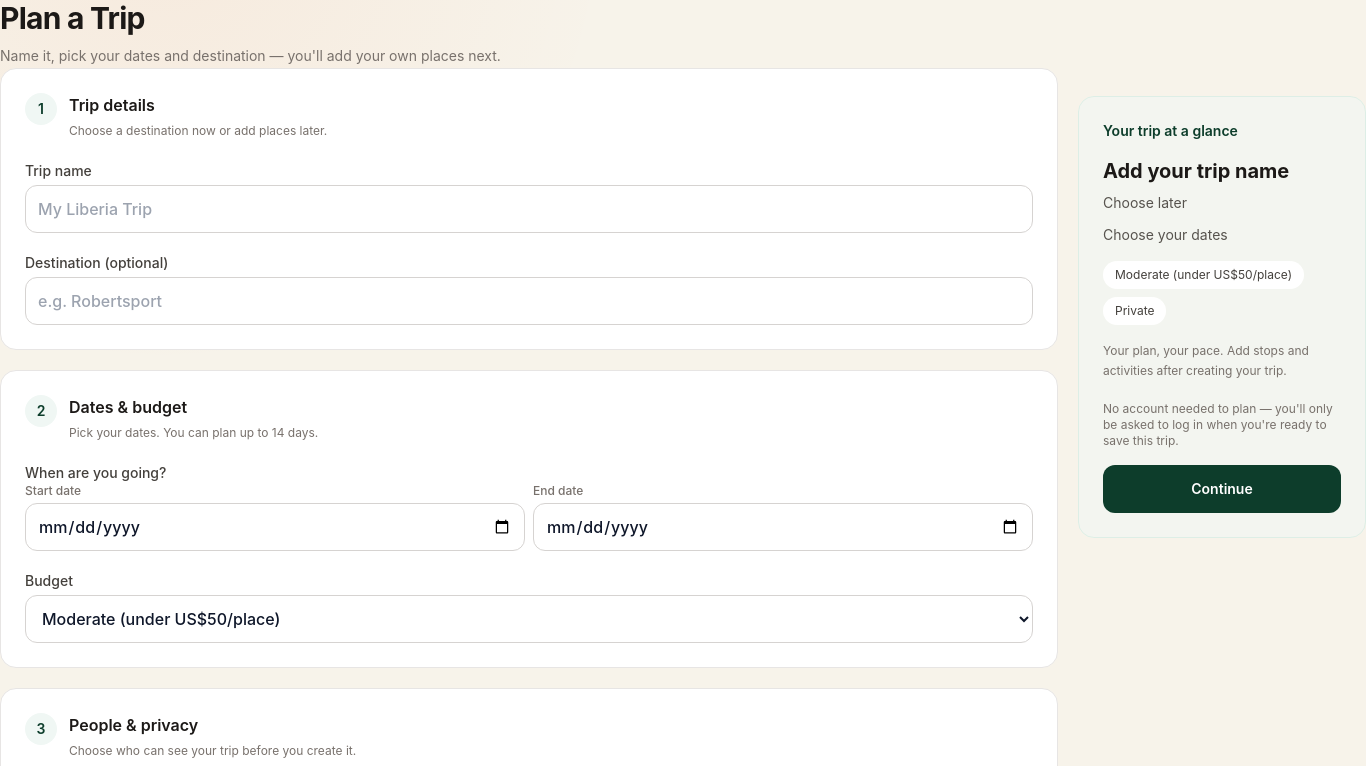
Test: TripPlannerForm › lets a signed-out visitor preview a trip with no login prompt, and no auto-generated stops
This screenshot has width=1366, height=766.
Step 1. Type "3-Day Liberia Trip" into the field labelled "Trip name" → (529, 209), box [25, 185, 1033, 233]
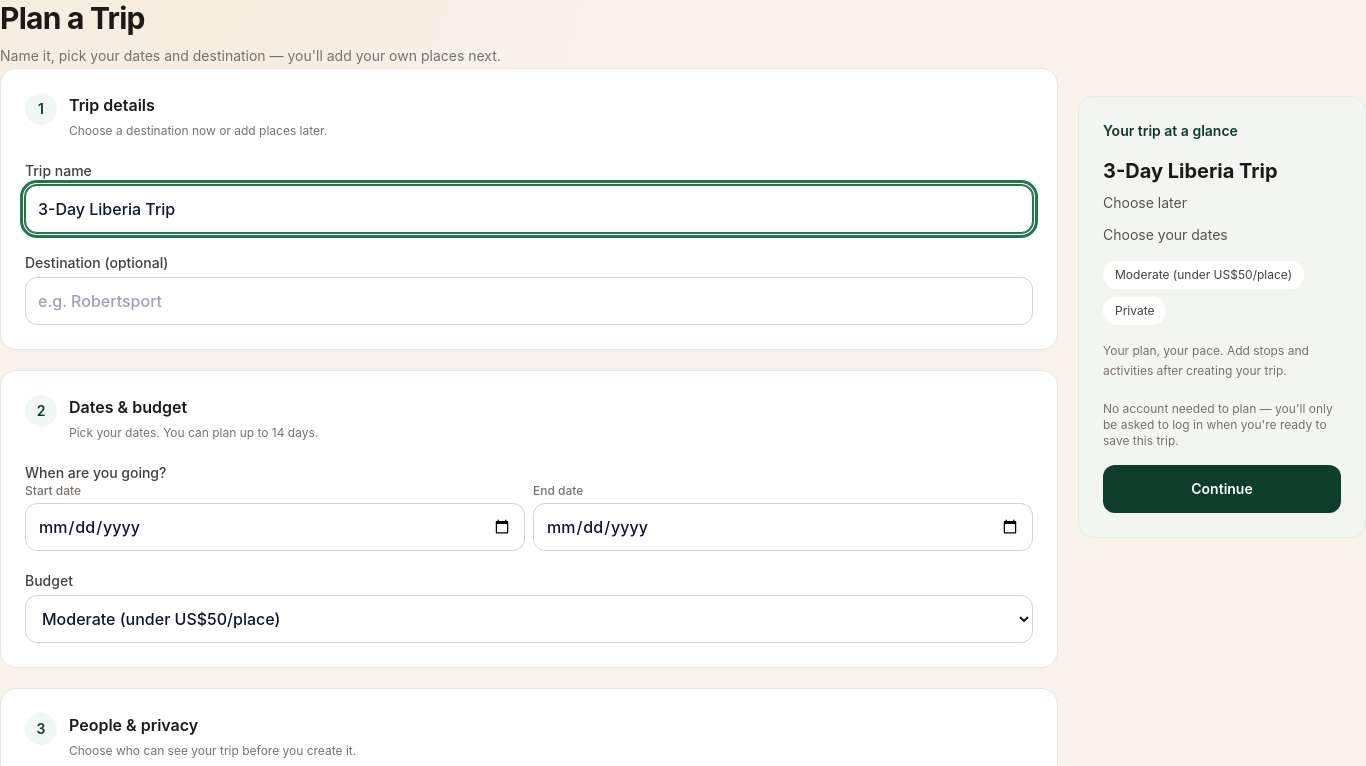
Step 2. Type "Robert" into the field with placeholder "e.g. Robertsport" → (529, 301), box [25, 277, 1033, 325]
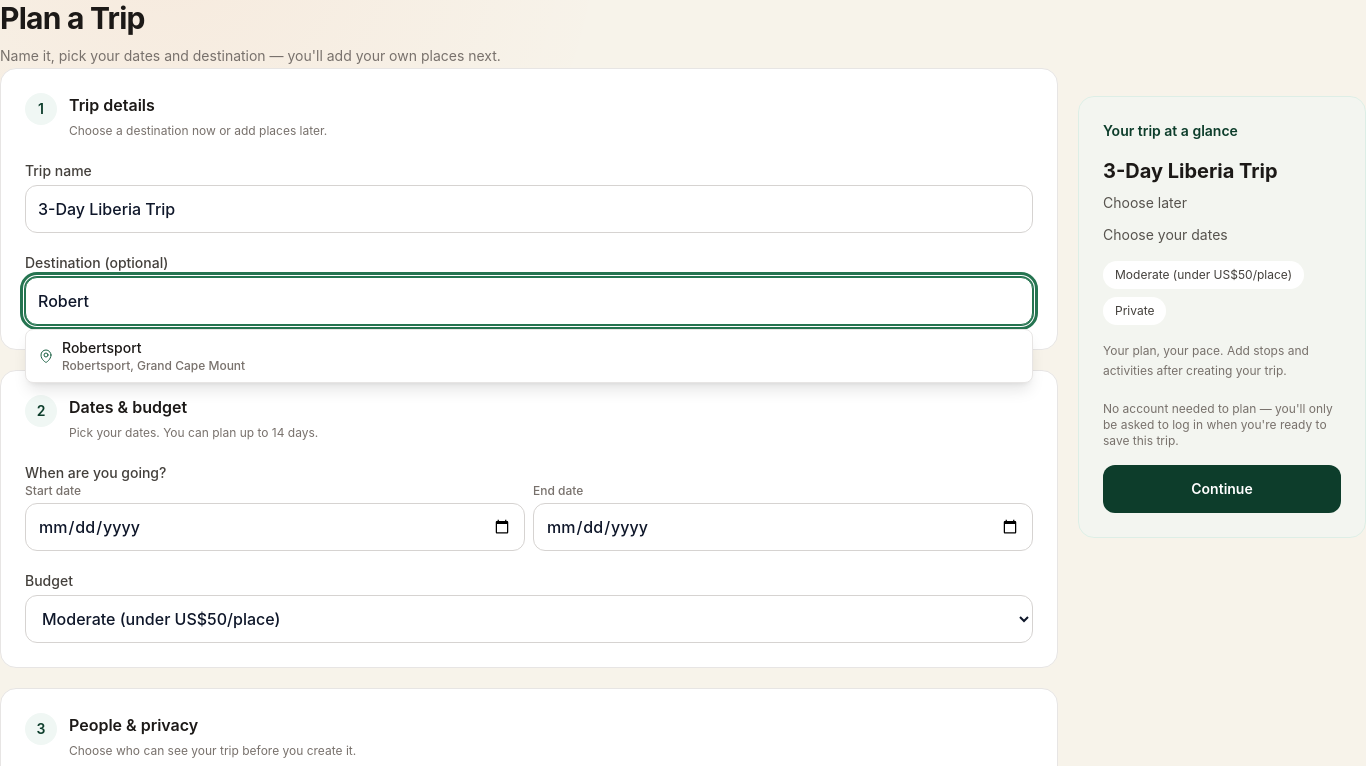
Check: the text "Robertsport" is shown
Step 3. Click the text "Robertsport" → (102, 348), box [62, 339, 142, 356]
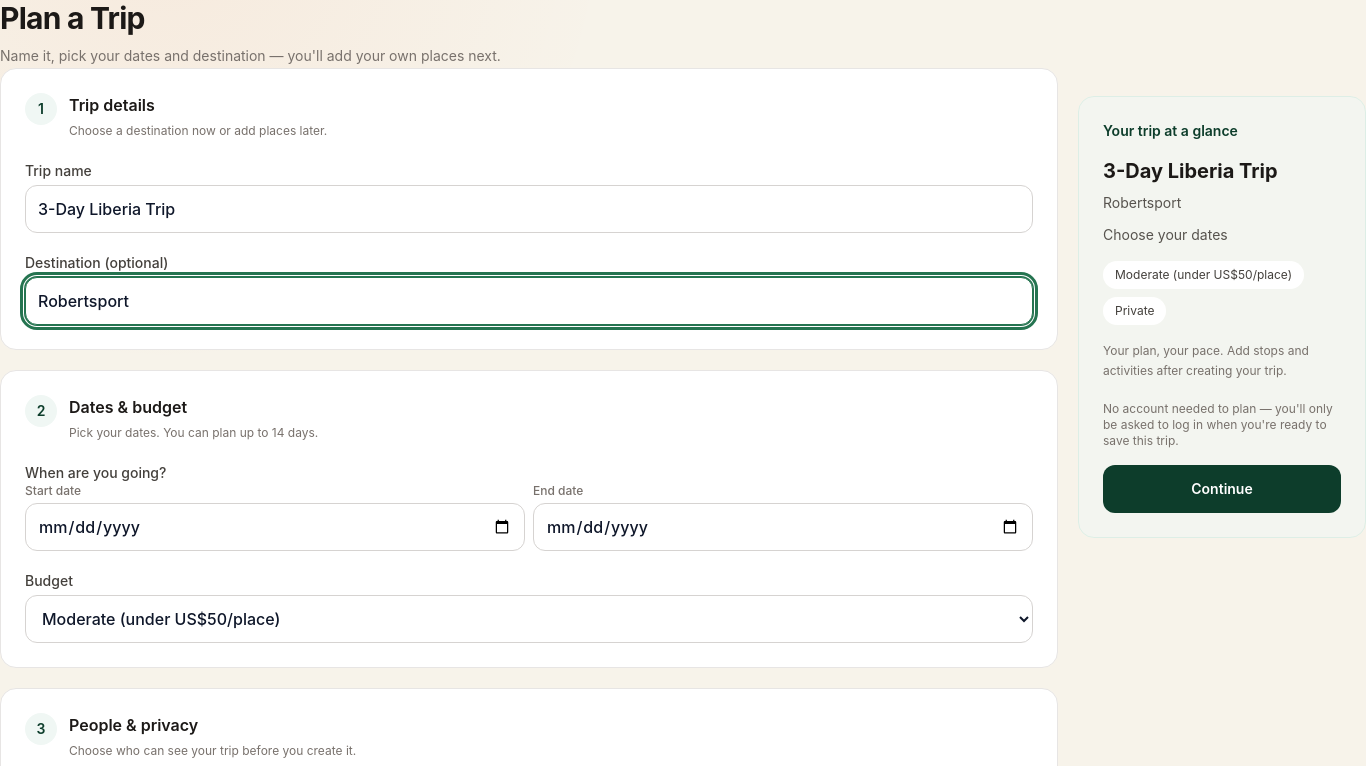
Step 4. Type "2026-12-01" into the date field labelled "Start date" → (275, 527), box [25, 503, 525, 551]
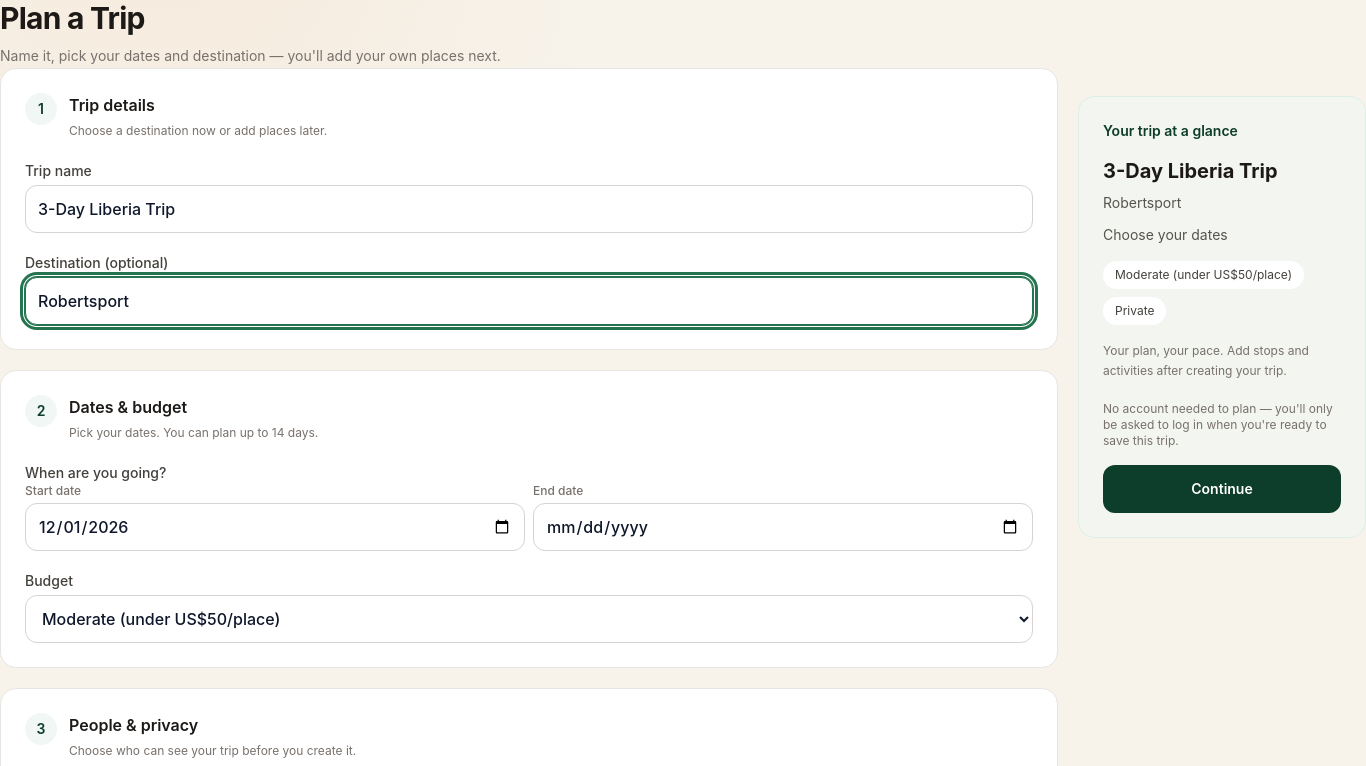
Step 5. Type "2026-12-03" into the date field labelled "End date" → (783, 527), box [533, 503, 1033, 551]
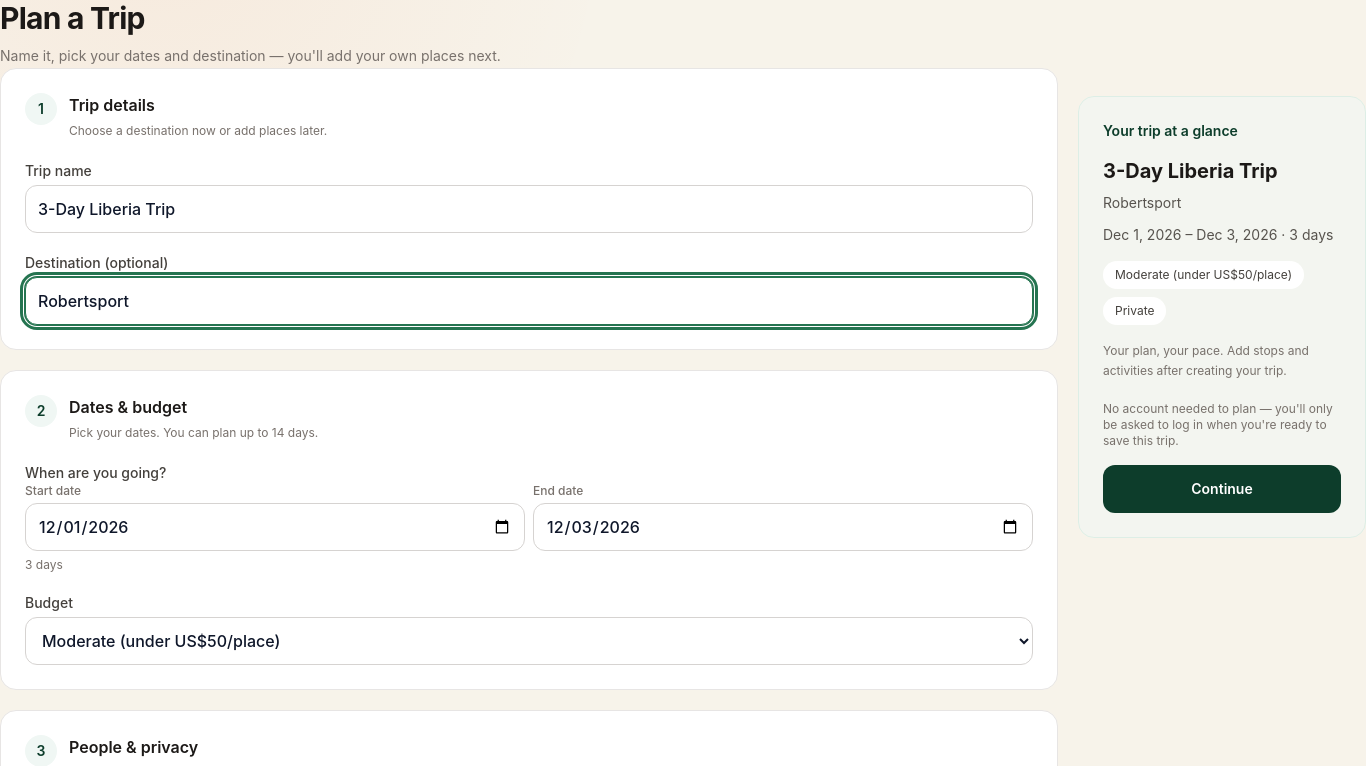
Step 6. Click the button "Continue" → (1222, 489), box [1103, 465, 1341, 513]
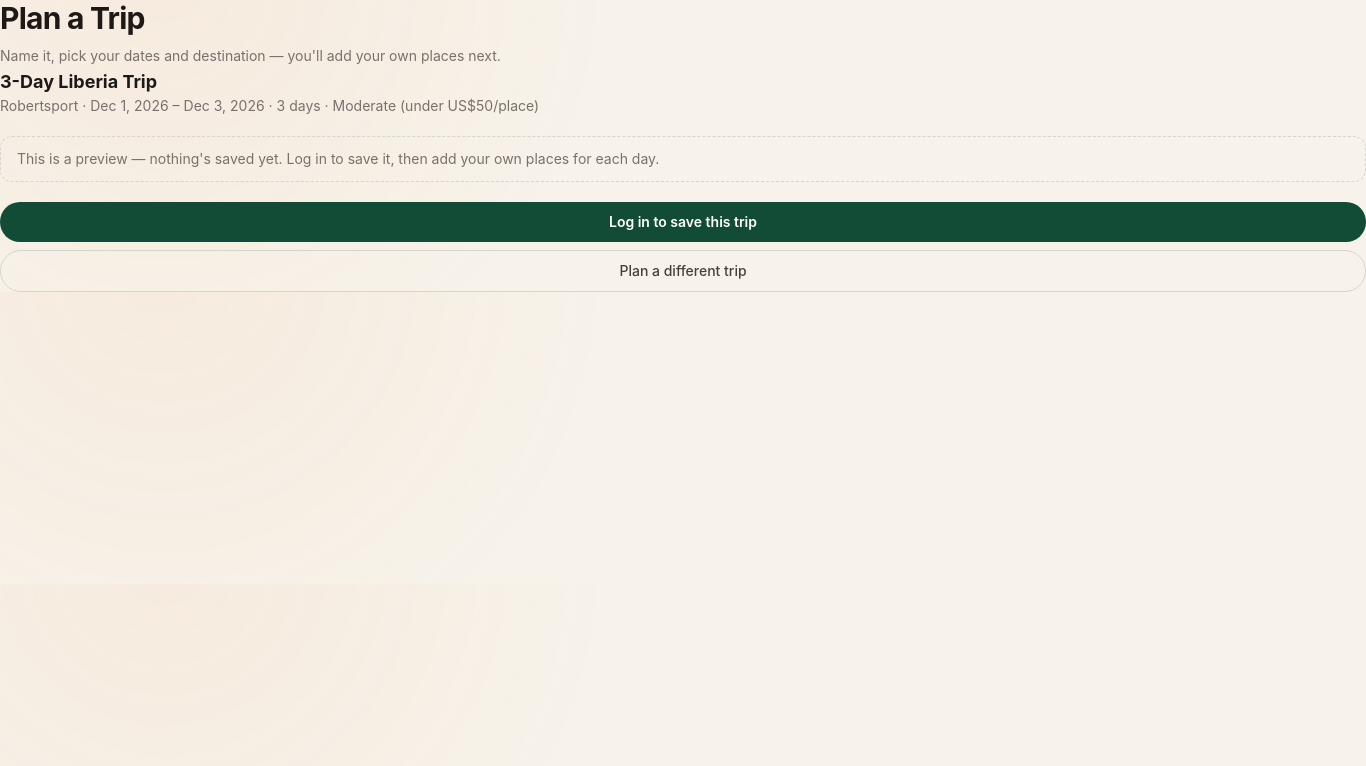
Check: the heading "3-Day Liberia Trip" is shown, box [0, 71, 157, 92]
Check: the text "nothing.s saved yet" is shown, box [17, 150, 659, 167]
Check: the text "Robertsport" is shown, box [0, 97, 90, 114]
